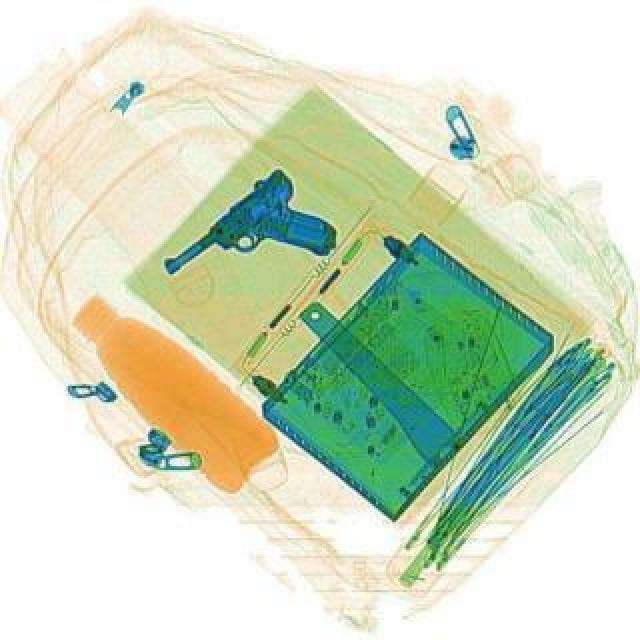gun: (154, 160, 350, 334)
